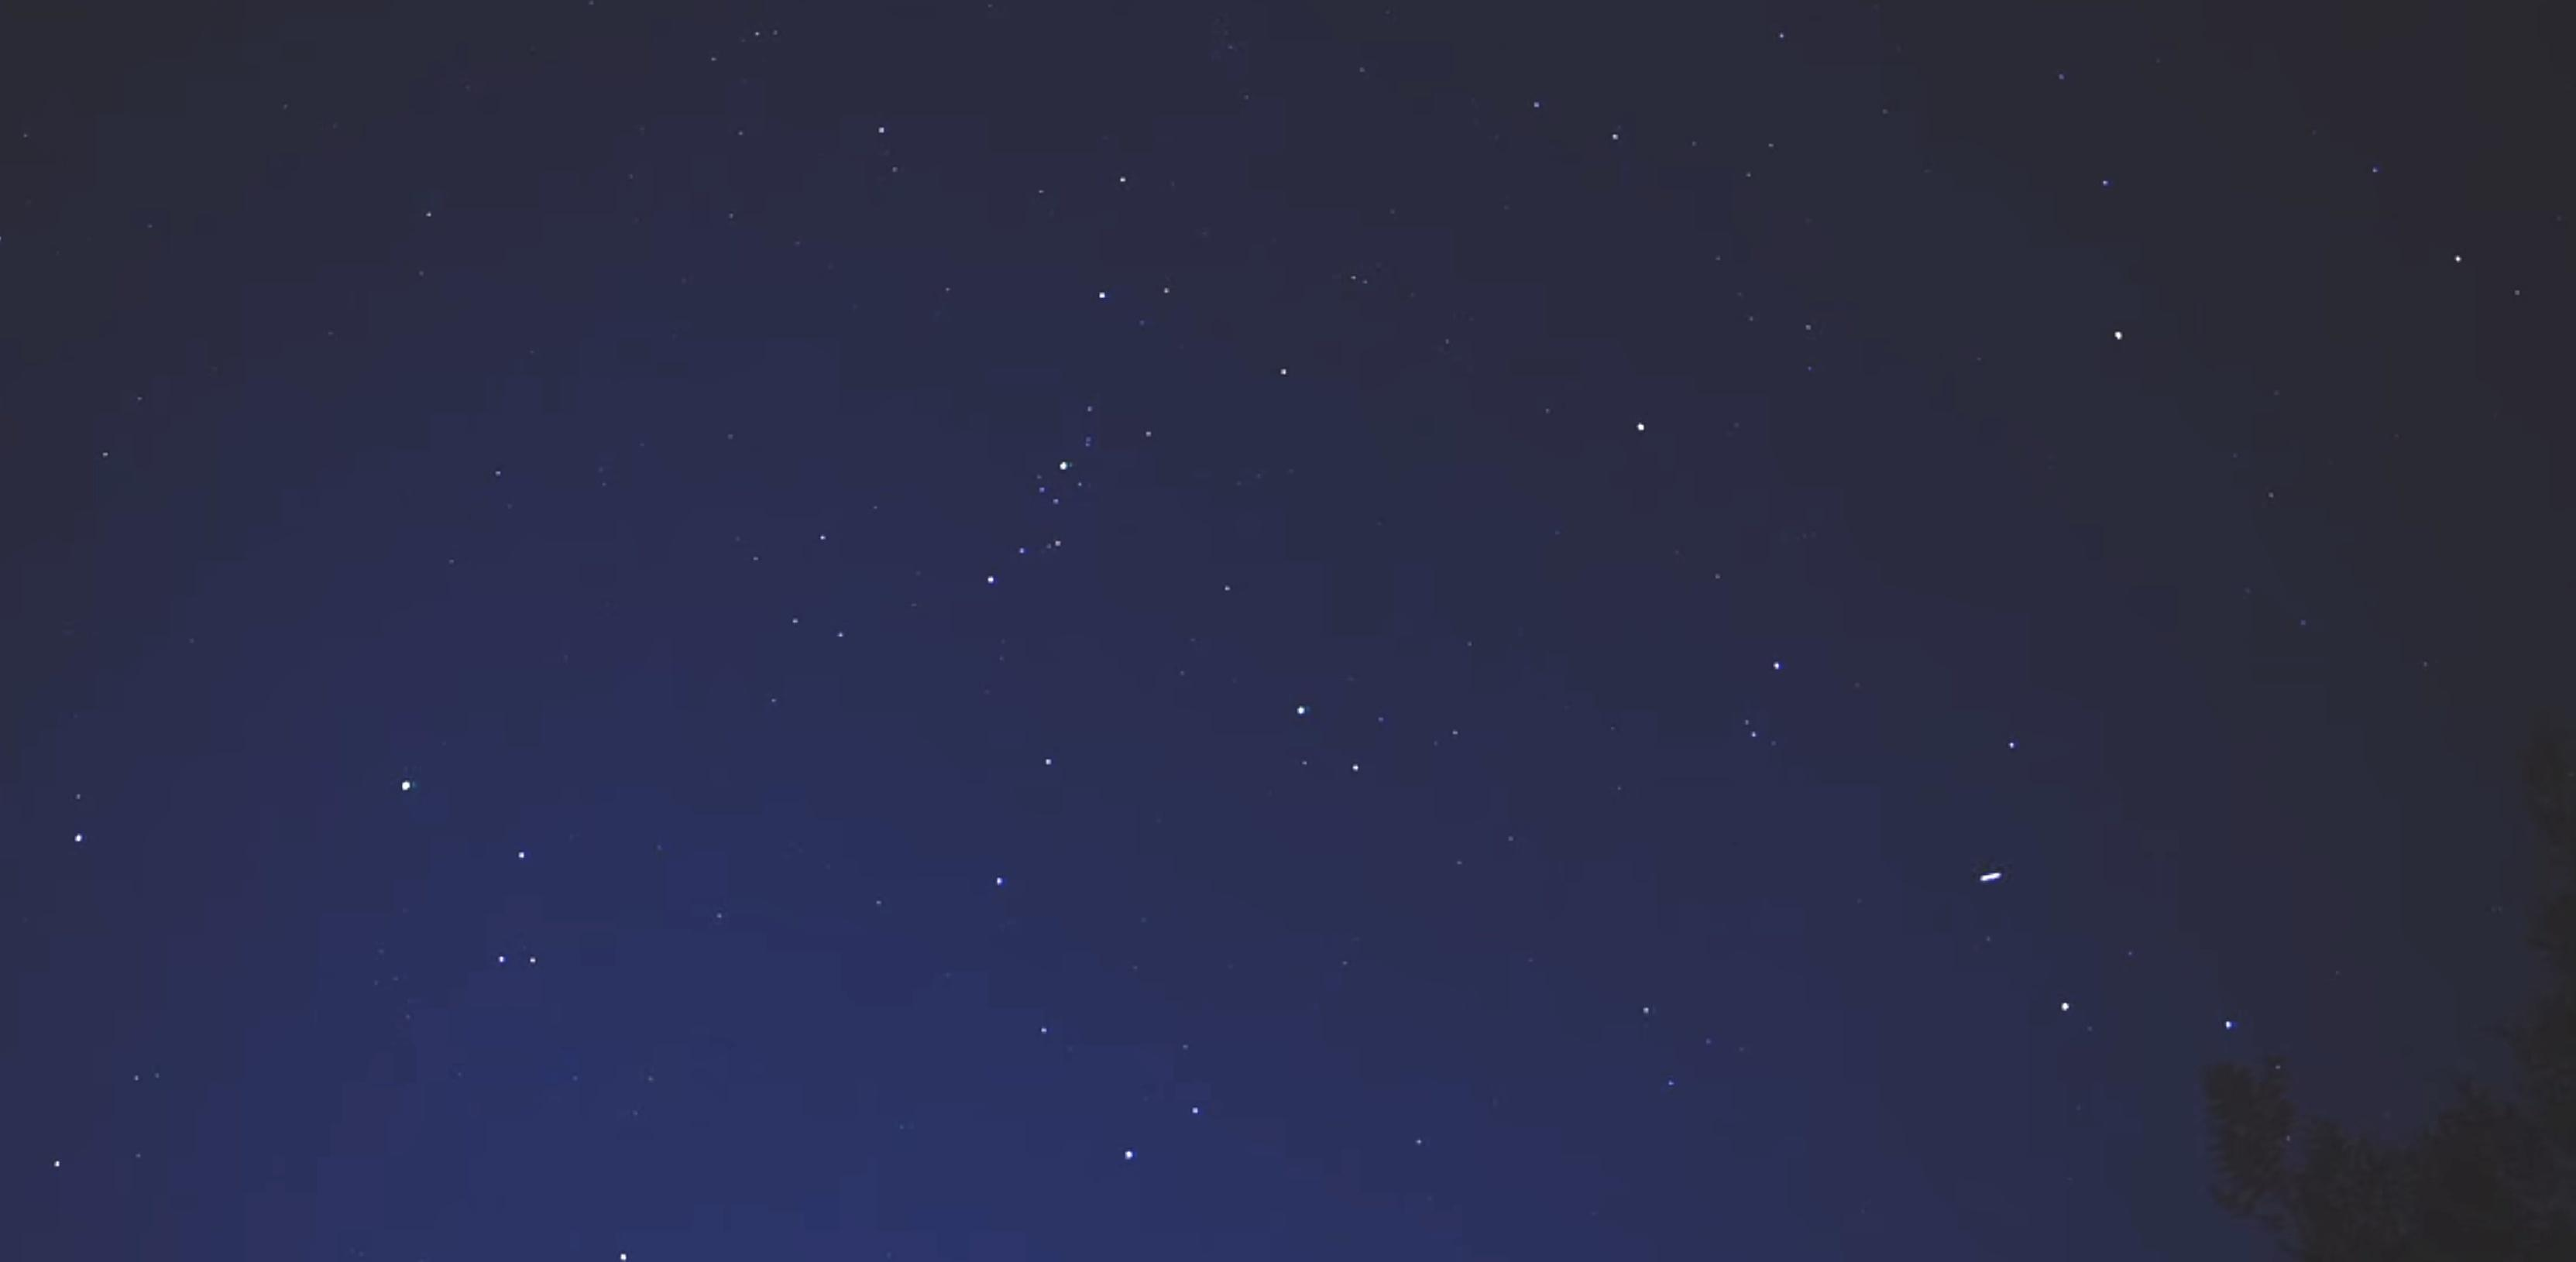meteorite: (1968, 859, 2021, 915)
